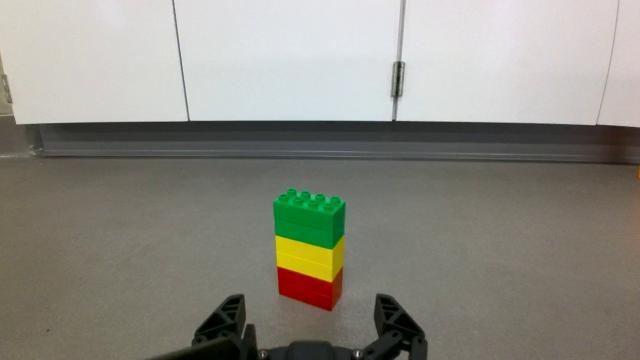lego: (270, 182, 350, 316)
